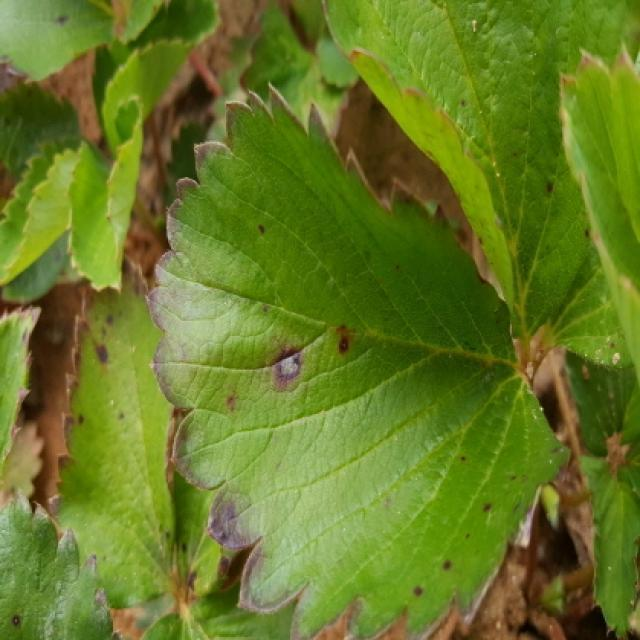Leaf Spot: (144, 80, 574, 638), (321, 0, 638, 342), (54, 250, 181, 608), (0, 486, 118, 638), (168, 466, 241, 600), (0, 303, 43, 476)
